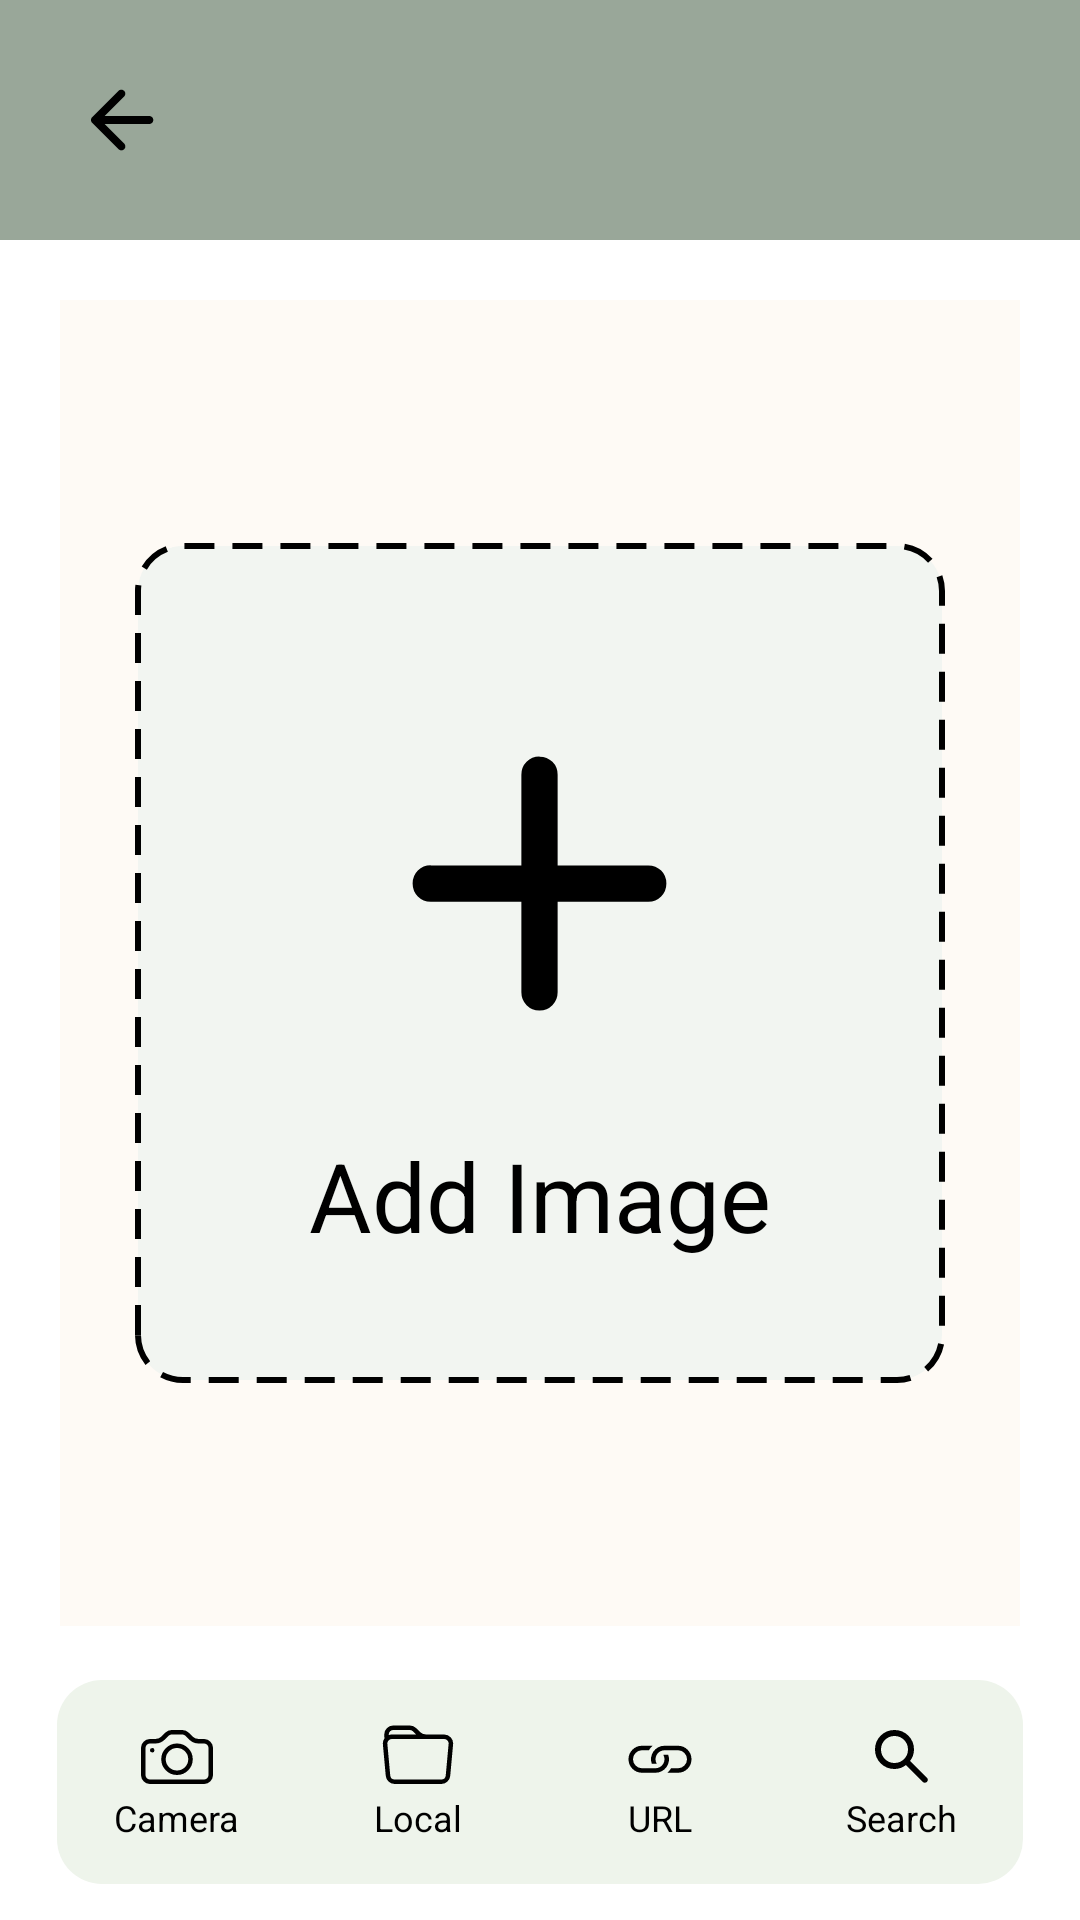

Point at icon controls on the screen. Image size 1080px×1920px, points as point (x, y).
add rounded: point (539, 883)
arrow back rounded: point (122, 120)
folder: point (418, 1754)
link: point (660, 1759)
